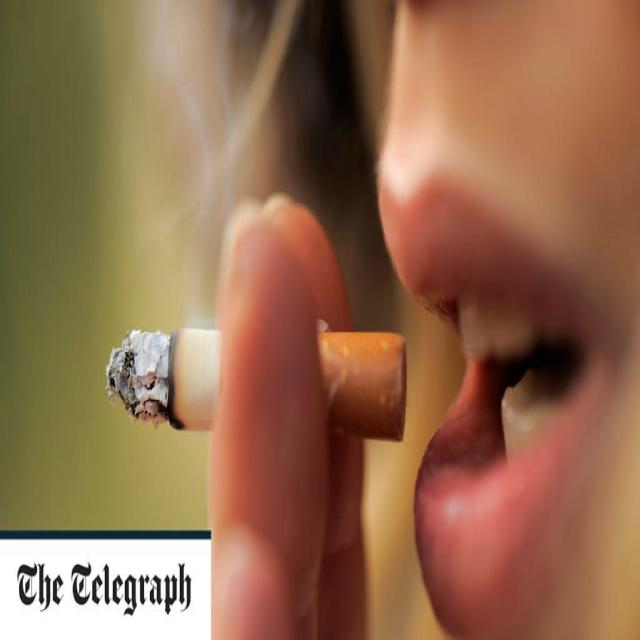smoke: (108, 314, 408, 439)
